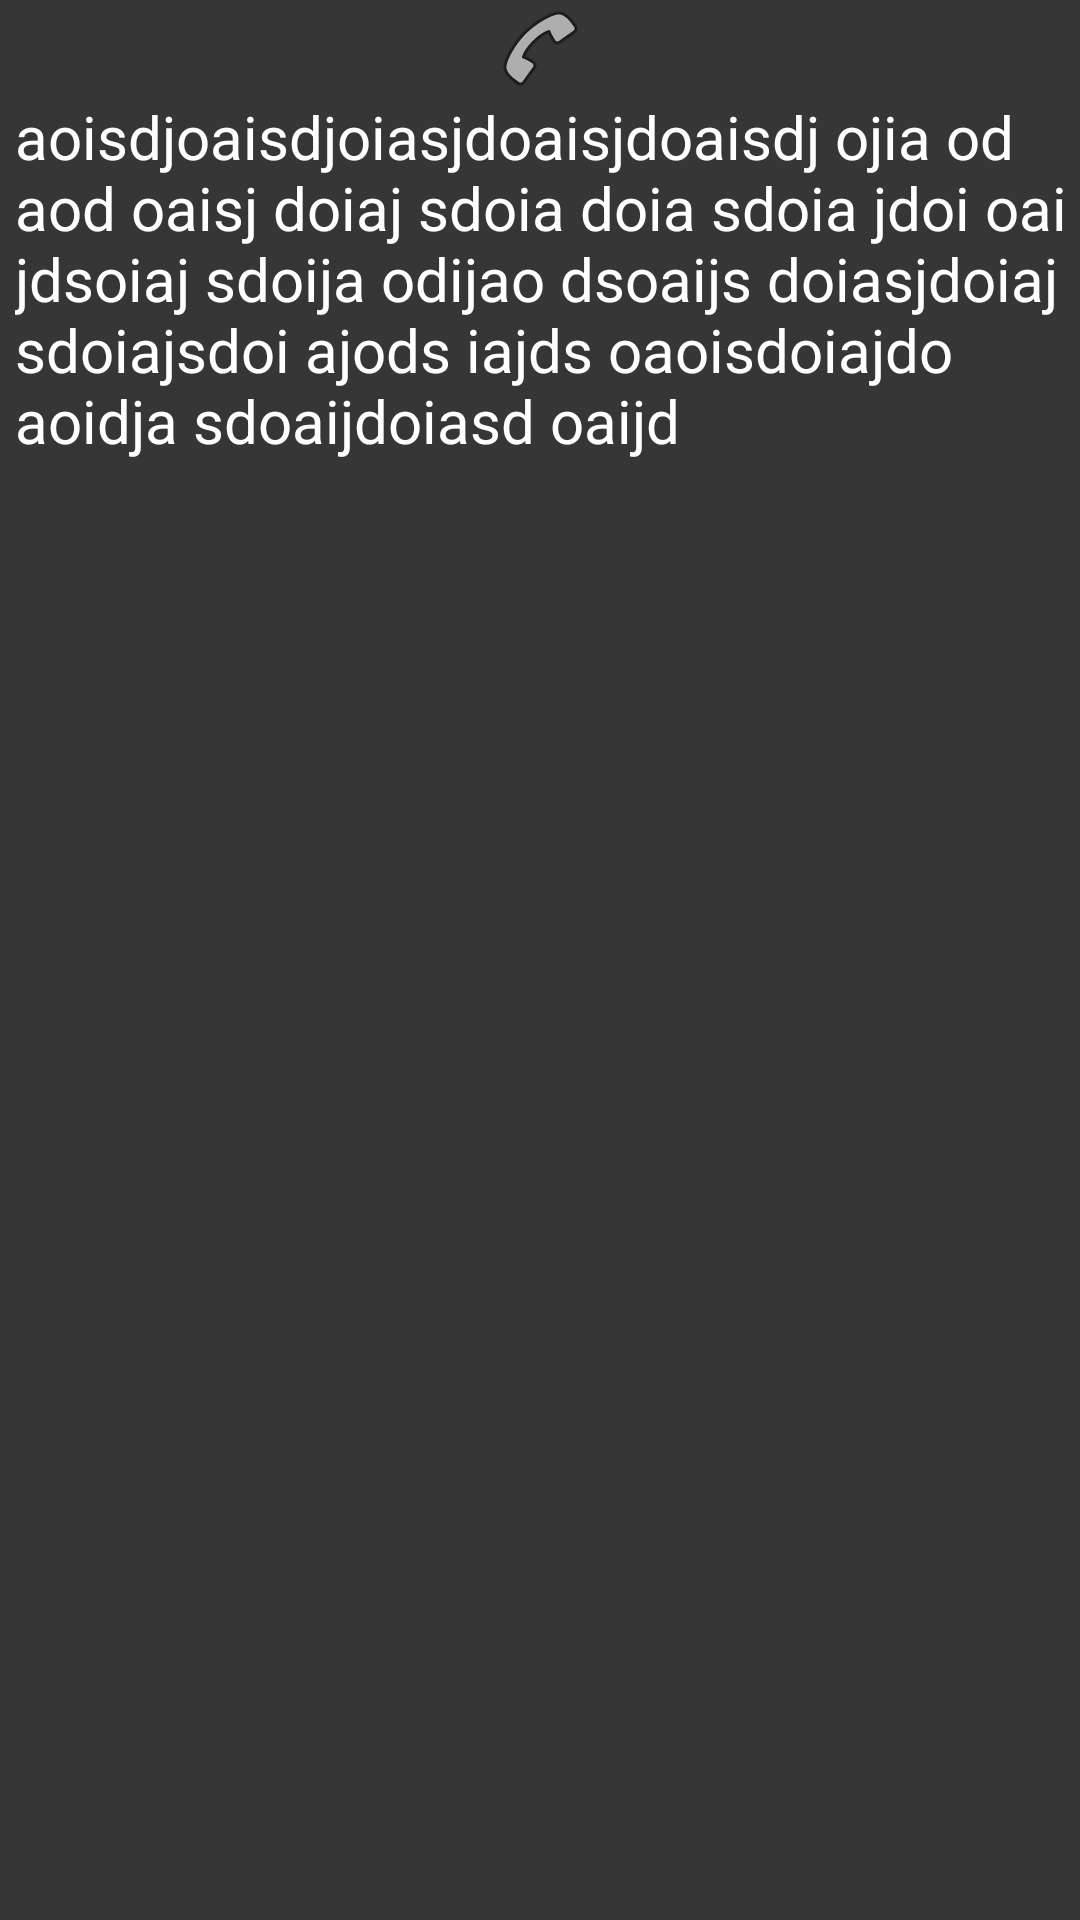

Named icons in this screenshot (1080w x 1920h) and their centers, (x=x, y=y):
call: (x=540, y=48)
